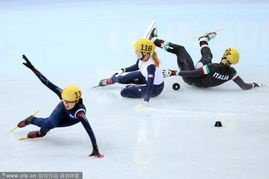falling: (142, 14, 267, 93)
